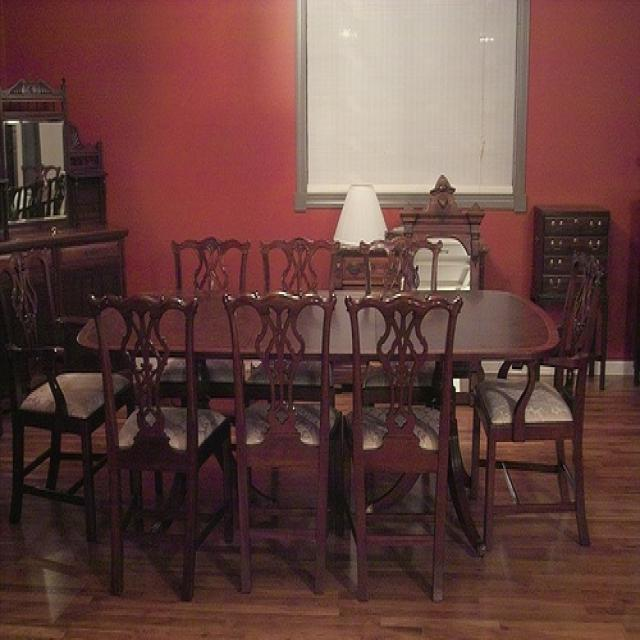chair: (90, 292, 230, 598), (468, 252, 610, 550), (1, 252, 141, 544), (344, 294, 464, 604), (225, 296, 334, 590), (172, 235, 252, 294), (258, 238, 340, 290), (357, 238, 442, 288)
diningtable: (77, 294, 560, 557)
